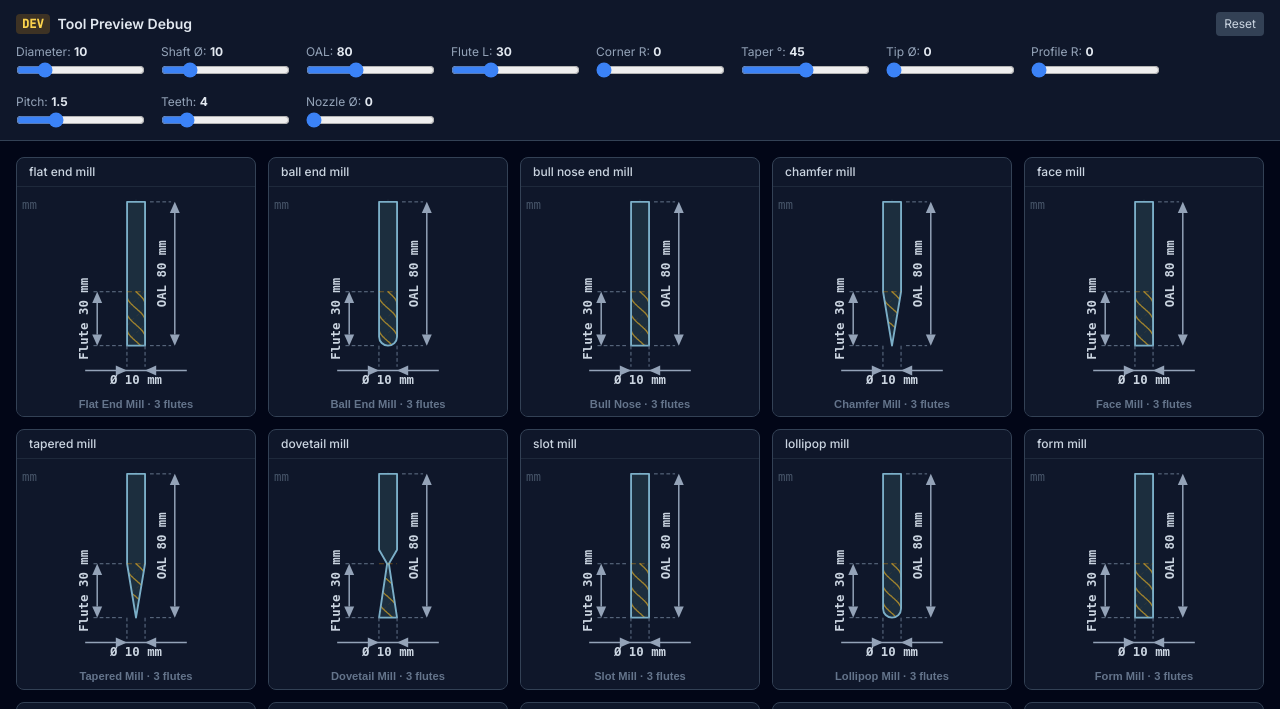
Test: ToolDebugPage — Reset button › resets slider value back to default after change
Set the slider labelled "Diameter: 10" to "25" at (79, 70), box x1=16 y1=62 x2=145 y2=78
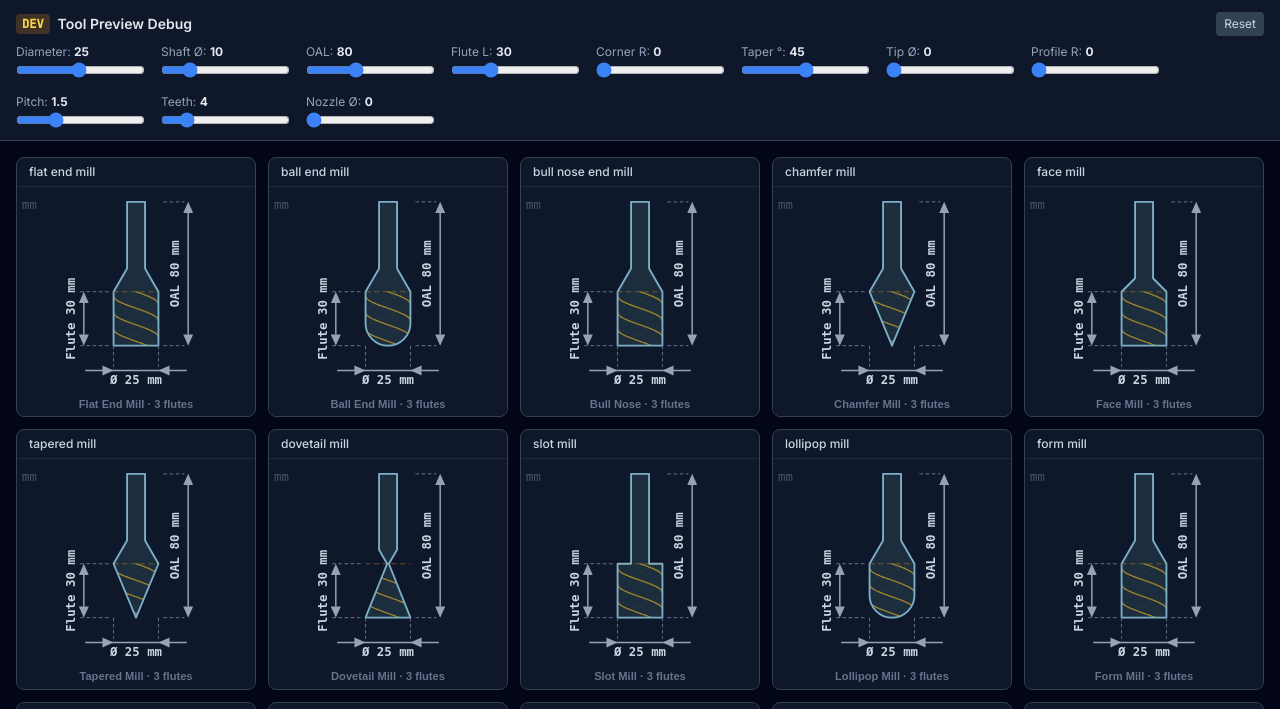
Click the button "Reset".
click(1240, 24)  # box x1=1216 y1=12 x2=1264 y2=36
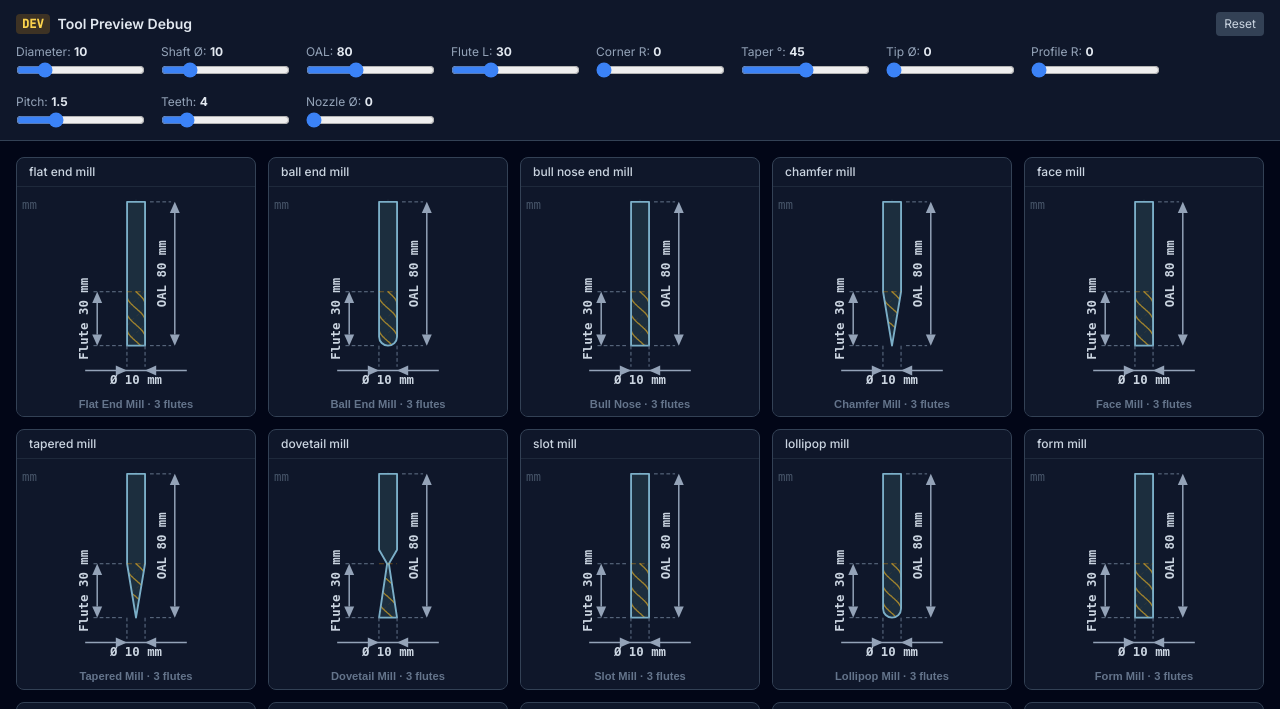
Expected: the slider labelled "Diameter: 10" holds "10", x1=16 y1=62 x2=145 y2=78
